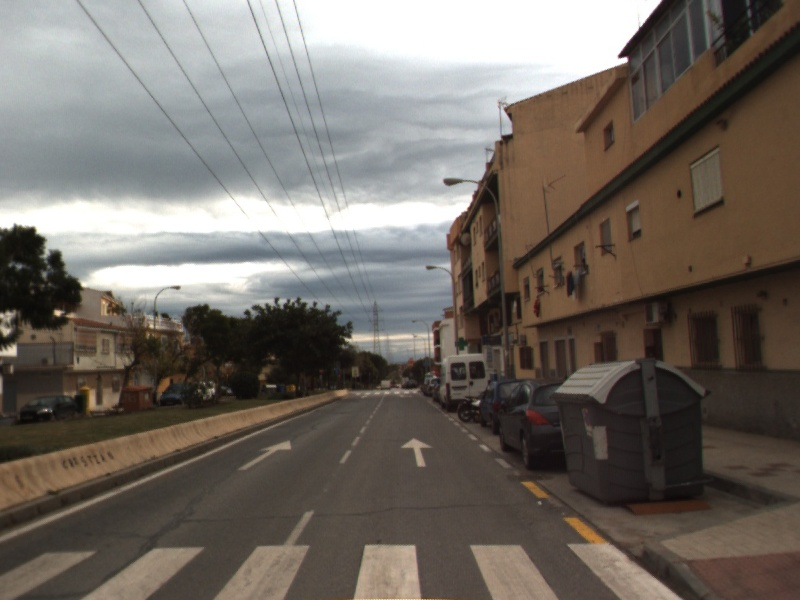STRAIGHT: (235, 438, 293, 472), (399, 435, 435, 469)
